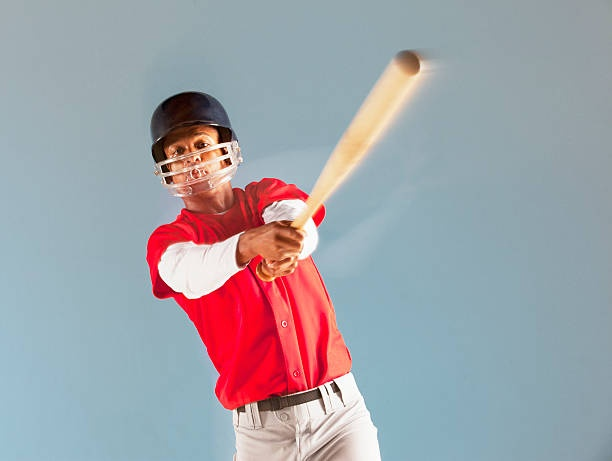bita: (263, 37, 422, 278)
